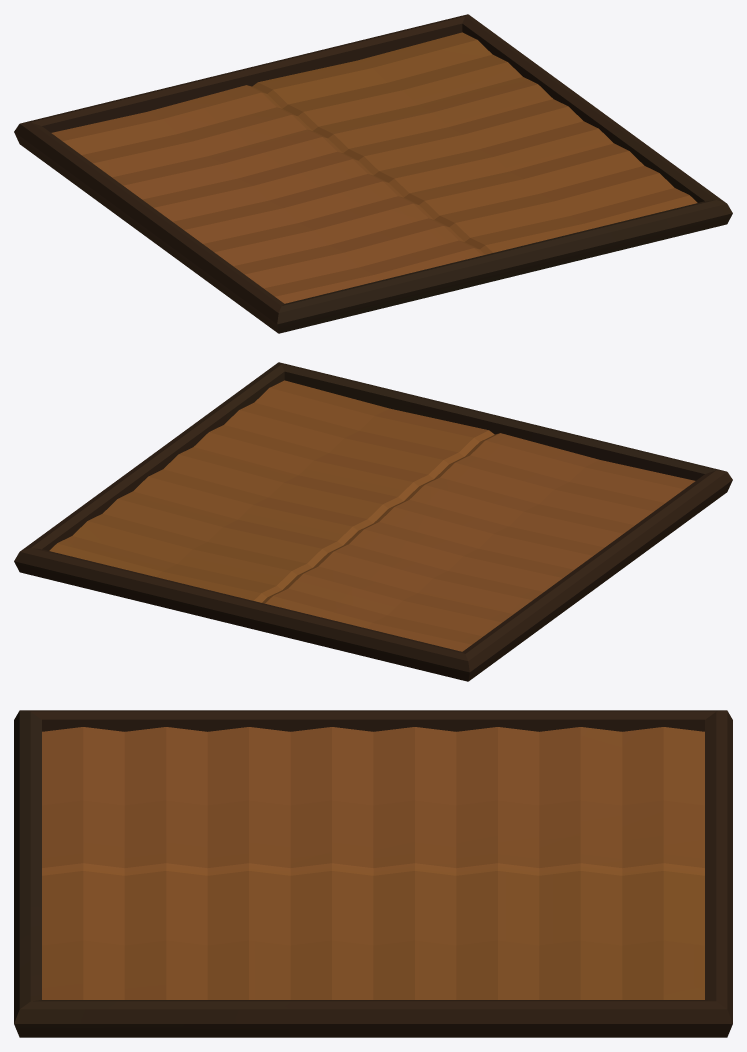
The model's file is SM_Farm_Building_Plot.fbx.
3 renders of one model, top to bottom at view 1: azimuth 30°, elevation 25°; view 2: azimuth 150°, elevation 25°; view 3: azimuth 270°, elevation 25°, orthographic. The views are drawn at different scales.
Parts seen in each view (by area): view 1: Plot; view 2: Plot; view 3: Plot.
Boxes of the visible parts, bbox=[...] form: Plot: bbox=[14, 14, 732, 333]; Plot: bbox=[14, 362, 732, 681]; Plot: bbox=[14, 710, 732, 1037].
Size of the model in its own units: 813 by 39.26 by 813.
Materials: 1 (1 with a texture image).
